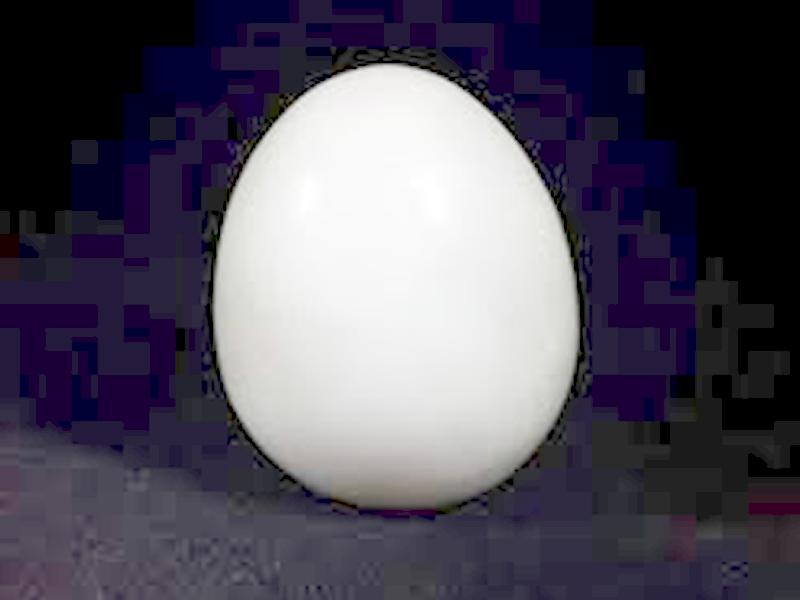Eggs: (217, 67, 571, 512)
